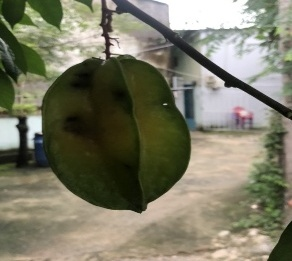Khe: (41, 51, 197, 218)
